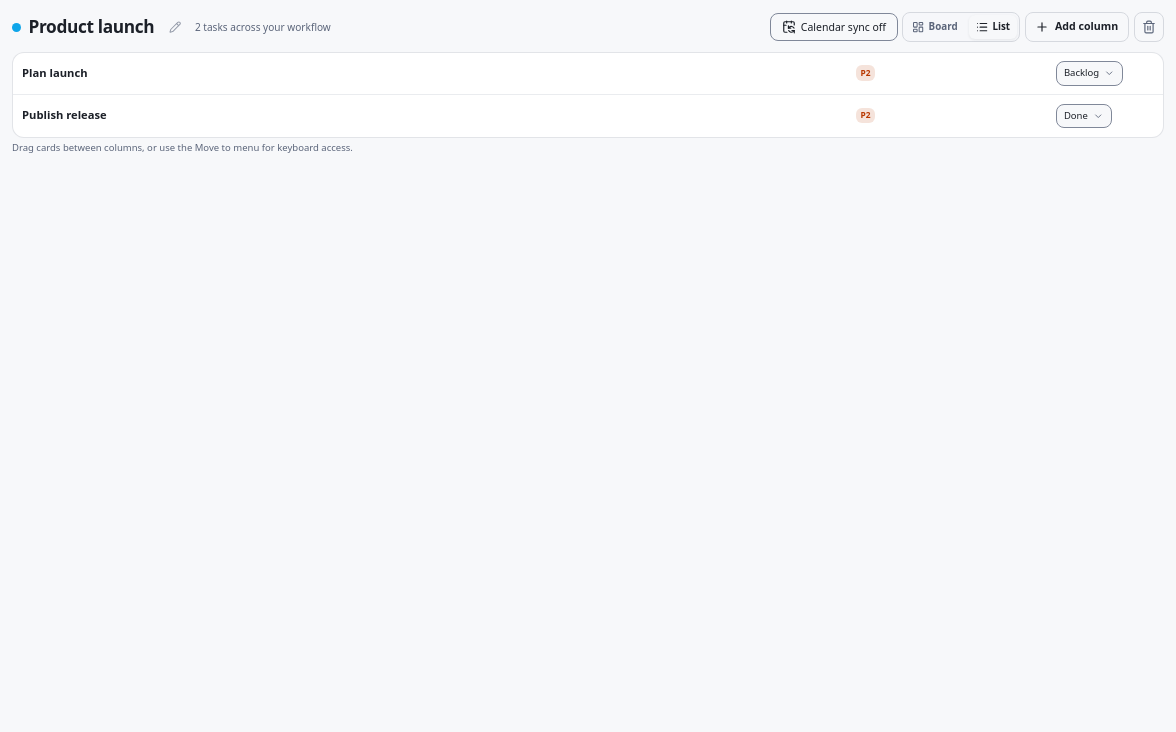
Test case: ProjectWorkspace › switches between the Kanban board and compact list view
Check: the element with test id "project-list" is shown, box x1=12 y1=52 x2=1164 y2=138
Click the button "Board": (935, 27) x1=905 y1=15 x2=964 y2=40
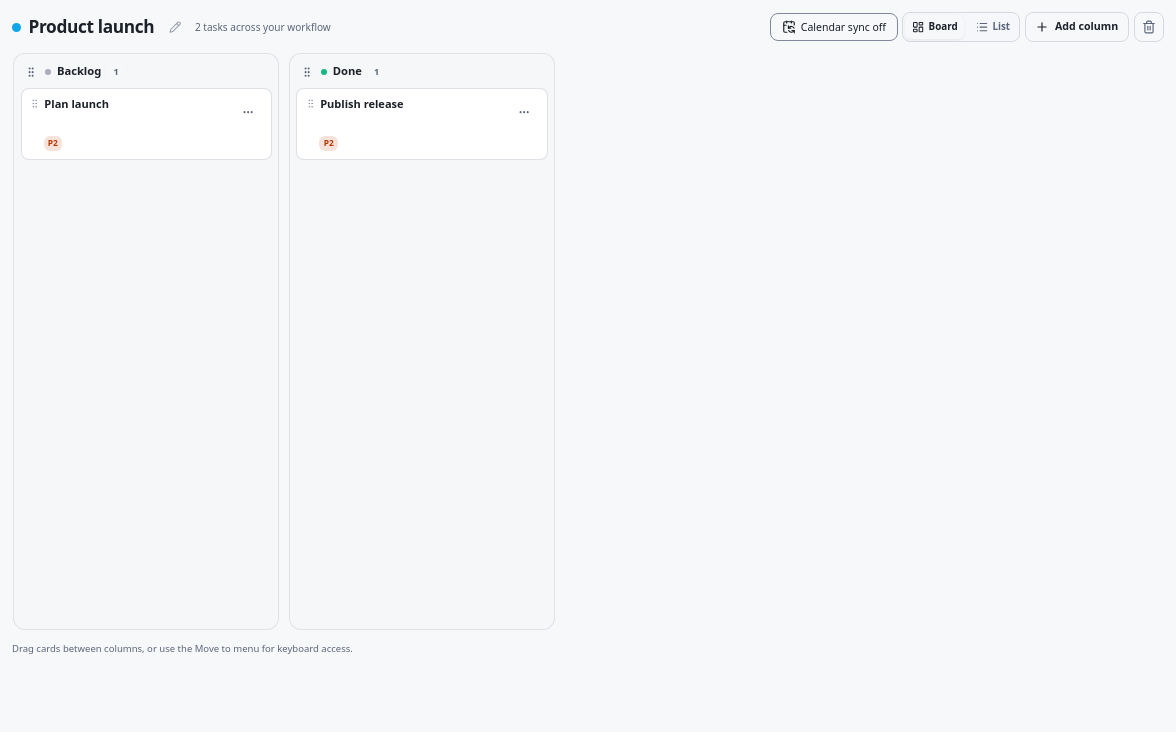
Check: the element with test id "project-board" is shown, box x1=13 y1=53 x2=555 y2=630
Click the button "List": (993, 27) x1=969 y1=15 x2=1017 y2=40
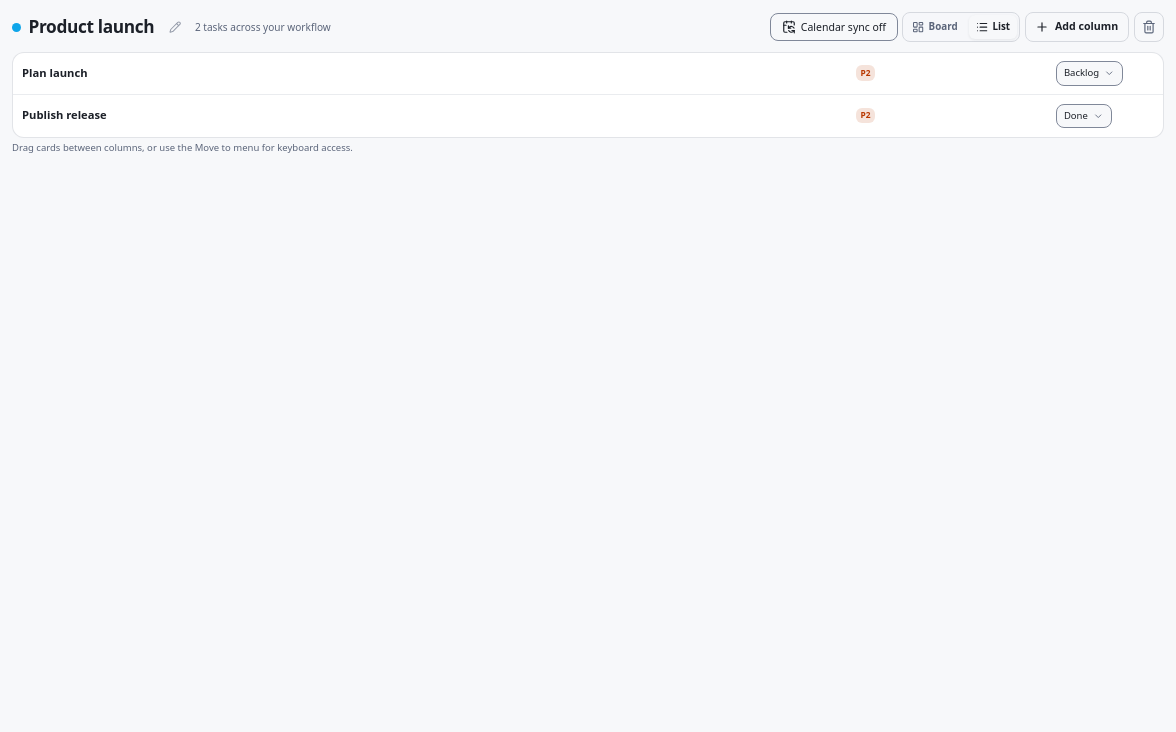
Check: the button "Plan launch" is shown, box x1=22 y1=65 x2=847 y2=81
Check: the element with test id "project-list" is shown, box x1=12 y1=52 x2=1164 y2=138
